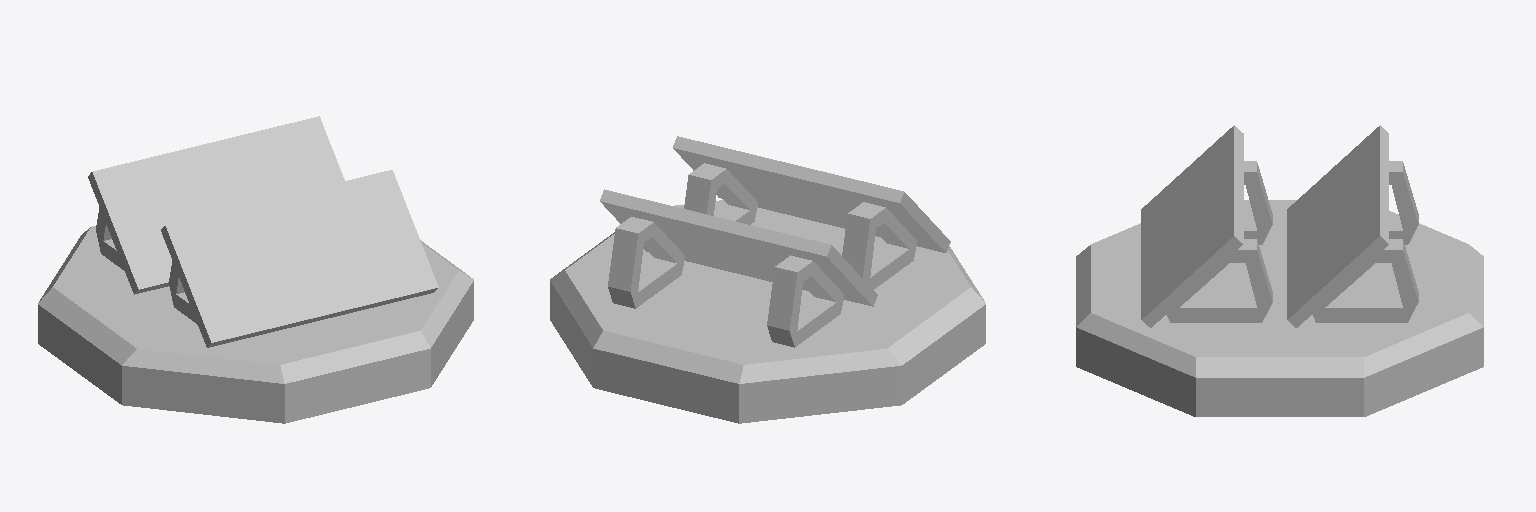
File: roofmodule_solarpanels.obj
3 renders of one model, left to right at view 1: azimuth 30°, elevation 25°; view 2: azimuth 150°, elevation 25°; view 3: azimuth 270°, elevation 25°, orthographic.
Parts seen in each view (by area): view 1: roofmodule_solarpanels_Cylinder.2715; view 2: roofmodule_solarpanels_Cylinder.2715; view 3: roofmodule_solarpanels_Cylinder.2715.
Part boxes in pixels (x1,y1,x2,y2): roofmodule_solarpanels_Cylinder.2715: (38, 116, 473, 423); roofmodule_solarpanels_Cylinder.2715: (550, 136, 985, 423); roofmodule_solarpanels_Cylinder.2715: (1076, 125, 1483, 416).
Bounding box in the file's own units: 1.4 × 0.5709 × 1.4.